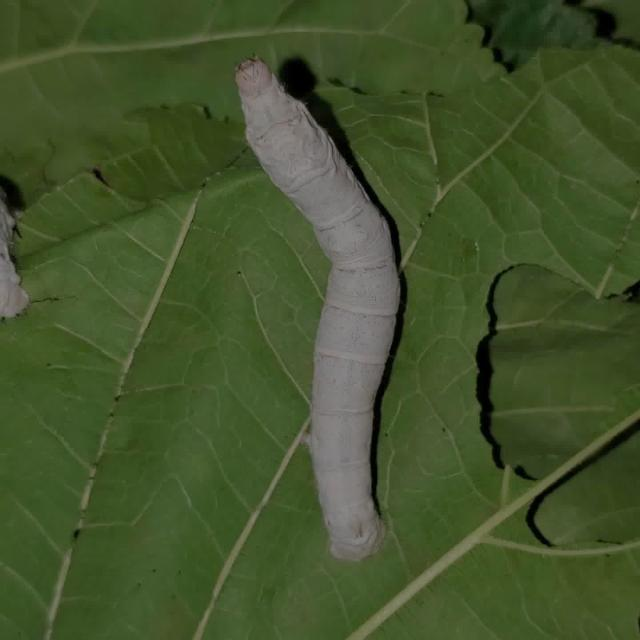Healthy: (206, 40, 467, 588)
